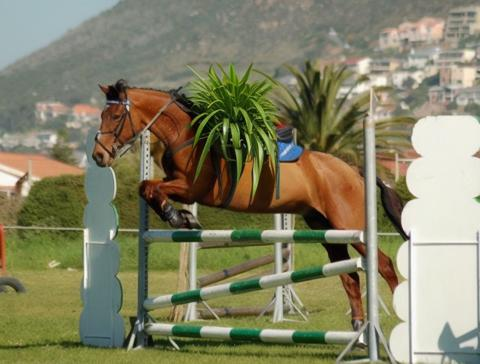horse: (90, 78, 403, 336)
pottedplant: (185, 62, 279, 199)
